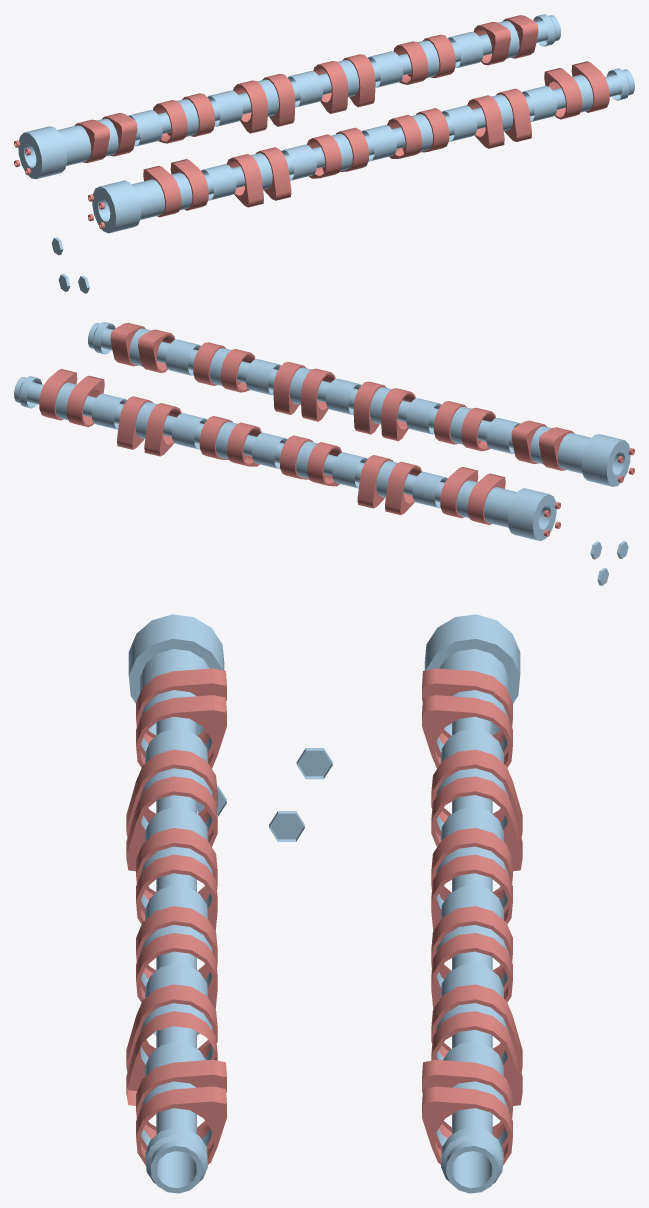
3 renders of one model, top to bottom at view 1: azimuth 30°, elevation 25°; view 2: azimuth 150°, elevation 25°; view 3: azimuth 270°, elevation 25°, orthographic. The views are drawn at different scales.
Visible parts, largest first — view 1: rb26_stock_reference.001_rb26_stock_reference.001_rb26_stoc.007, rb26_stock_reference.001_rb26_stock_reference.001_rb26_stoc.006; view 2: rb26_stock_reference.001_rb26_stock_reference.001_rb26_stoc.007, rb26_stock_reference.001_rb26_stock_reference.001_rb26_stoc.006; view 3: rb26_stock_reference.001_rb26_stock_reference.001_rb26_stoc.006, rb26_stock_reference.001_rb26_stock_reference.001_rb26_stoc.007.
Boxes of the visible parts, x1,y1,x2,y2 form: rb26_stock_reference.001_rb26_stock_reference.001_rb26_stoc.007: (18,14,634,293); rb26_stock_reference.001_rb26_stock_reference.001_rb26_stoc.006: (14,15,609,229); rb26_stock_reference.001_rb26_stock_reference.001_rb26_stoc.007: (14,322,630,585); rb26_stock_reference.001_rb26_stock_reference.001_rb26_stoc.006: (39,322,634,536); rb26_stock_reference.001_rb26_stock_reference.001_rb26_stoc.006: (126,668,522,1165); rb26_stock_reference.001_rb26_stock_reference.001_rb26_stoc.007: (128,614,520,1193).
Bounding box in the file's own units: 38.49 × 8.14 × 12.29.
